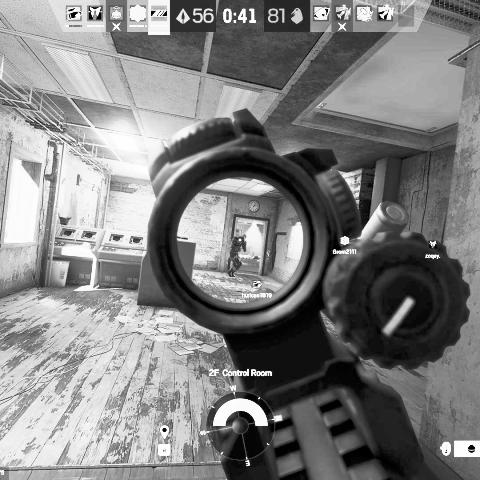Character: (228, 234, 248, 278)
Friend_label: (241, 279, 272, 299), (333, 235, 357, 256), (424, 240, 441, 260)
Head: (242, 234, 247, 240)
